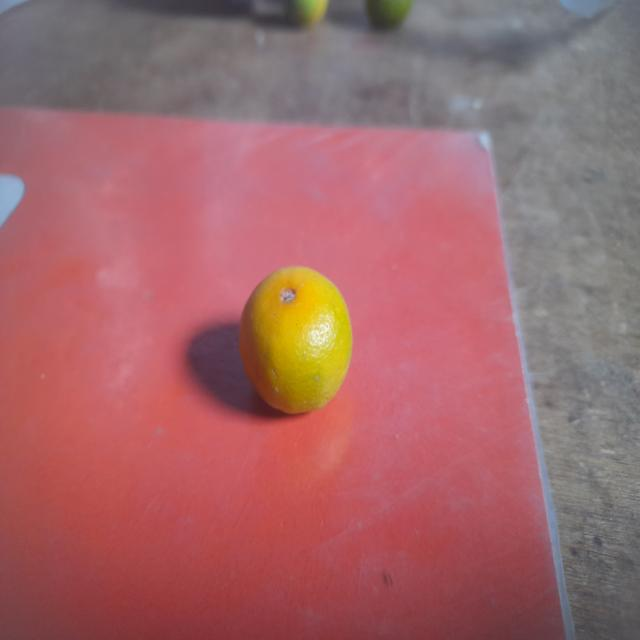greening: (237, 266, 356, 426)
